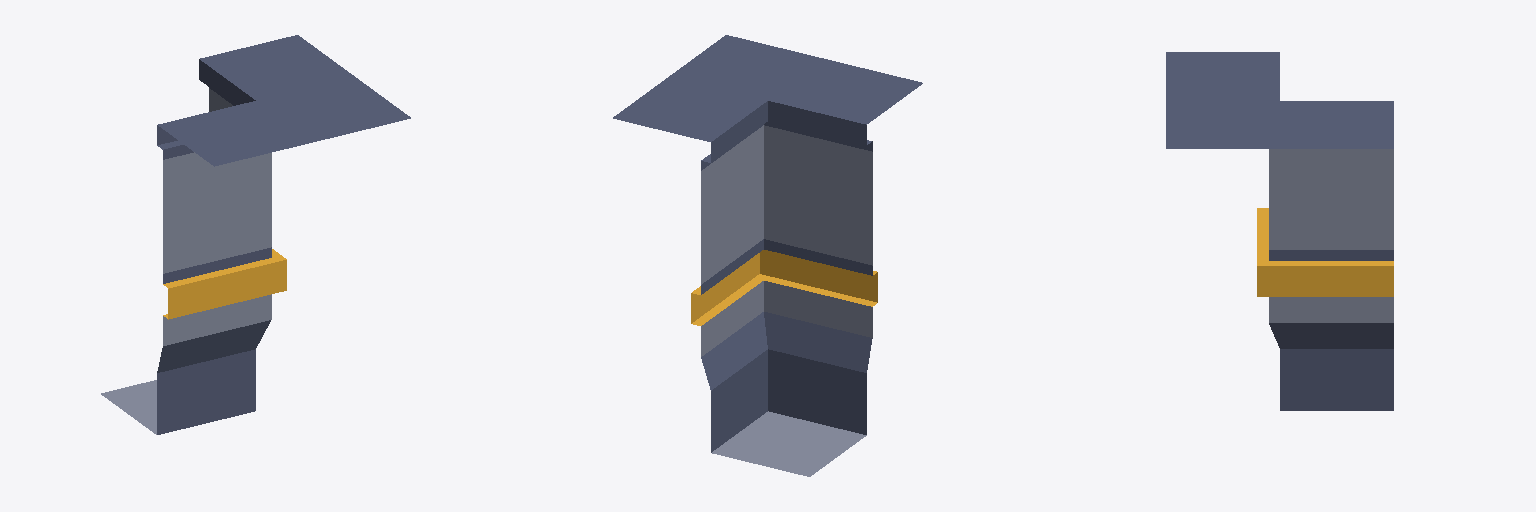
The model's file is structure-corner-inner.obj.
The picture shows the model from 3 angles: view 1: azimuth 30°, elevation 25°; view 2: azimuth 150°, elevation 25°; view 3: azimuth 270°, elevation 25°; orthographic projection.
Parts seen in each view (by area): view 1: structure-corner-inner; view 2: structure-corner-inner; view 3: structure-corner-inner.
Part boxes in pixels (x1,y1,x2,y2): structure-corner-inner: (101, 35, 410, 434); structure-corner-inner: (613, 35, 922, 476); structure-corner-inner: (1166, 52, 1393, 410).
Bounding box in the file's own units: 2 × 3 × 2.